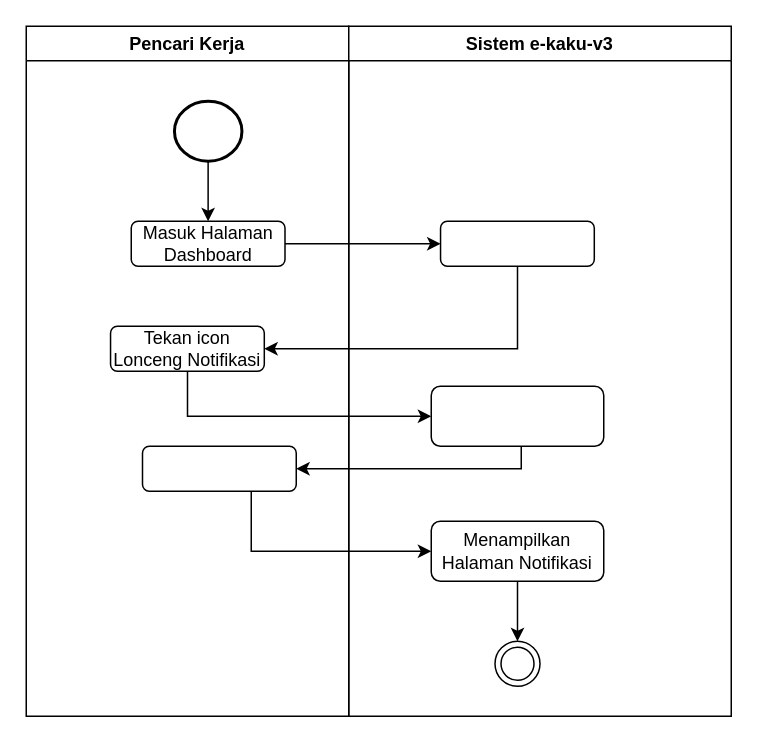
The diagram is 758 pixels wide and 743 high, and some of its shapes have lost their labels. The box of each missing label's shape, as (x1, y1, x2, y2) in pixels:
Memuat Halaman Dashboard: (439, 220, 594, 266)
Menampilkan Dropdown Notifikasi: (430, 385, 604, 446)
Tekan Opsi Lihat Semua Notifikasi: (141, 445, 296, 491)
